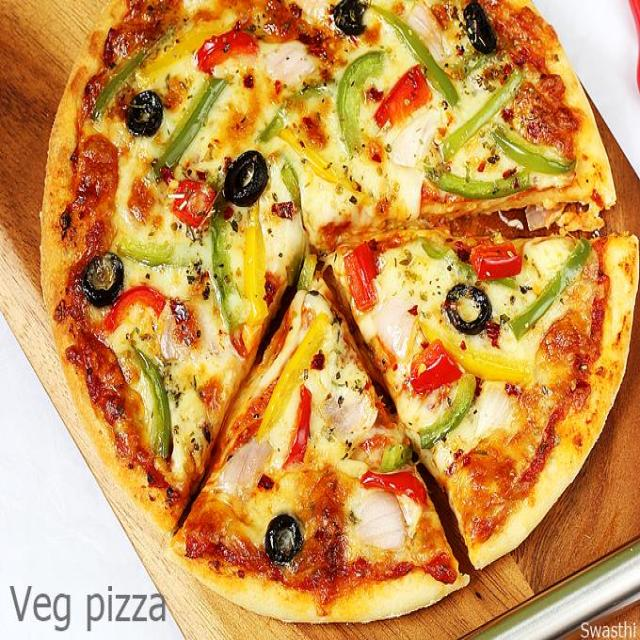피자: (34, 0, 640, 640)
